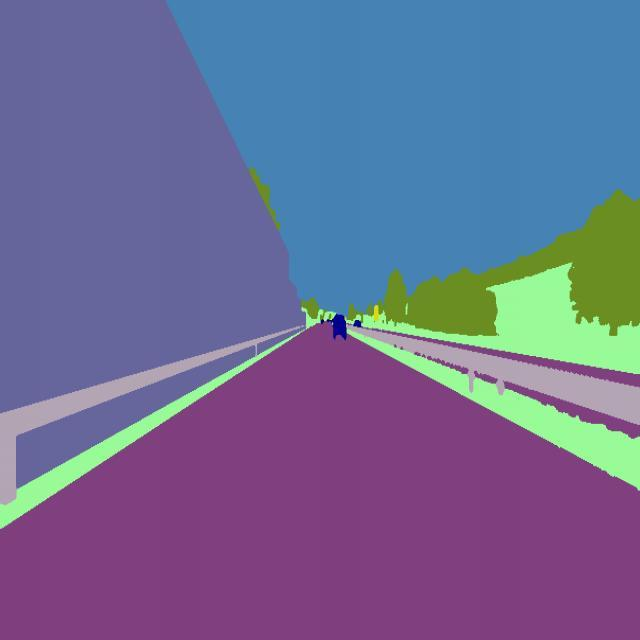safe: (330, 312, 352, 344), (352, 320, 365, 330)
